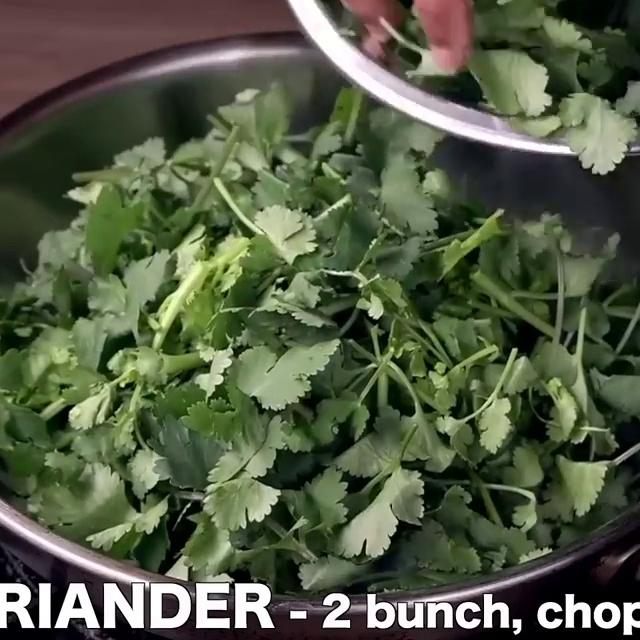cilantro: (67, 190, 636, 557), (524, 0, 640, 136)
